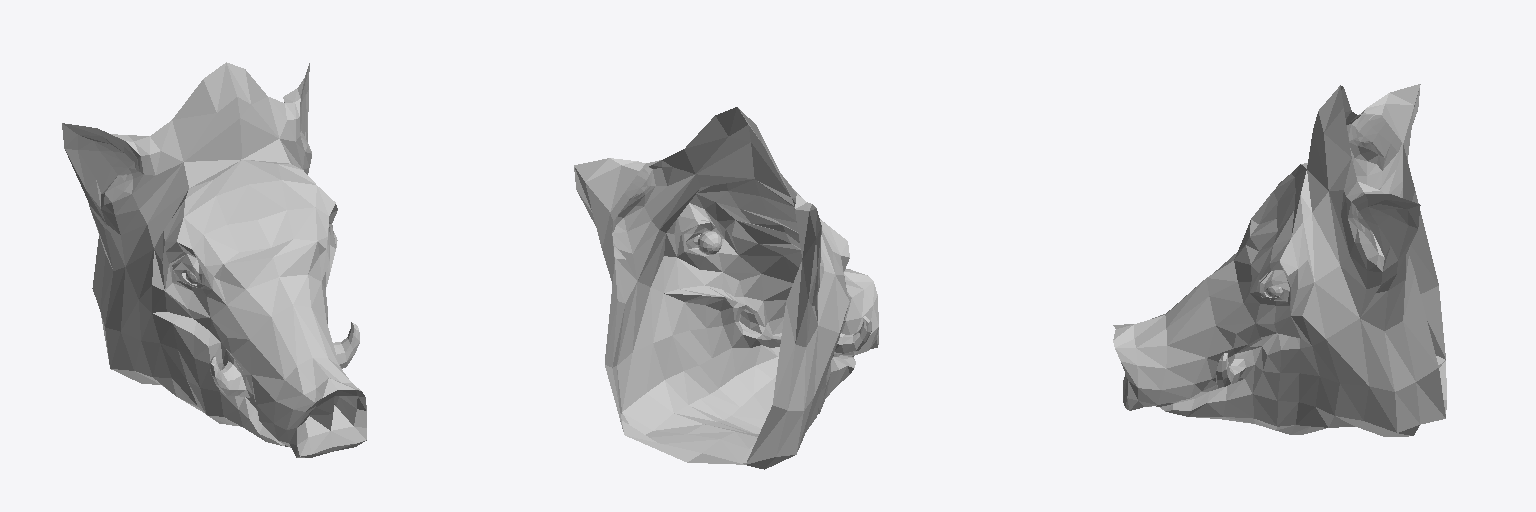
File: pighead.obj
The picture shows the model from 3 angles: view 1: azimuth 30°, elevation 25°; view 2: azimuth 150°, elevation 25°; view 3: azimuth 270°, elevation 25°; orthographic projection.
Parts seen in each view (by area): view 1: Cube.009_Cube.011; view 2: Cube.009_Cube.011; view 3: Cube.009_Cube.011.
Part boxes in pixels (x1,y1,x2,y2): Cube.009_Cube.011: (62, 62, 366, 457); Cube.009_Cube.011: (574, 107, 878, 469); Cube.009_Cube.011: (1113, 84, 1446, 436).
Size of the model in its own units: 36.06 by 47.64 by 42.08.